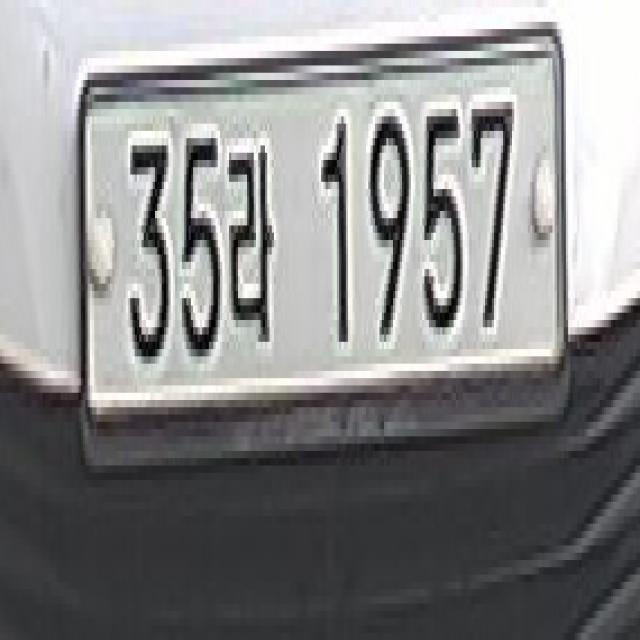1: (319, 109, 350, 364)
3: (126, 131, 175, 364)
5: (418, 94, 462, 342), (180, 131, 222, 356)
7: (472, 94, 516, 334)
9: (364, 109, 411, 349)
la: (225, 138, 276, 349)
license_plate: (78, 22, 566, 422)
